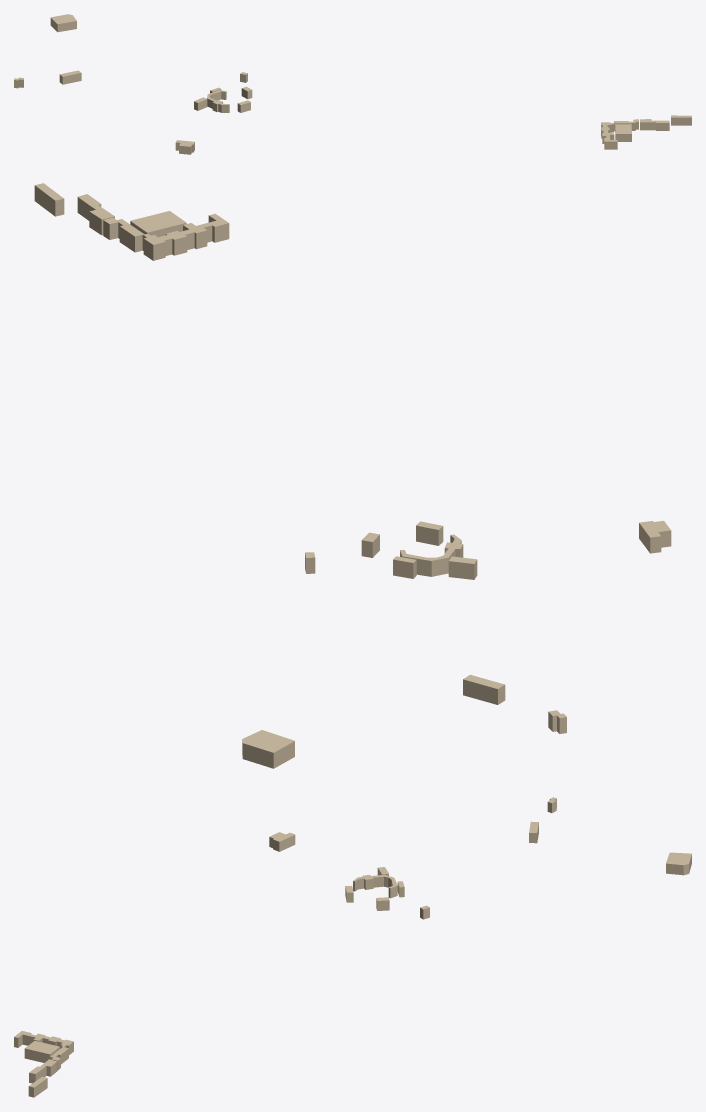
File: 15_5-estimated-coarse.glb
3 renders of one model, top to bottom at view 1: azimuth 30°, elevation 25°; view 2: azimuth 150°, elevation 25°; view 3: azimuth 270°, elevation 25°, orthographic. The views are drawn at different scales.
Size of the model in its own units: 743 by 12 by 733.
